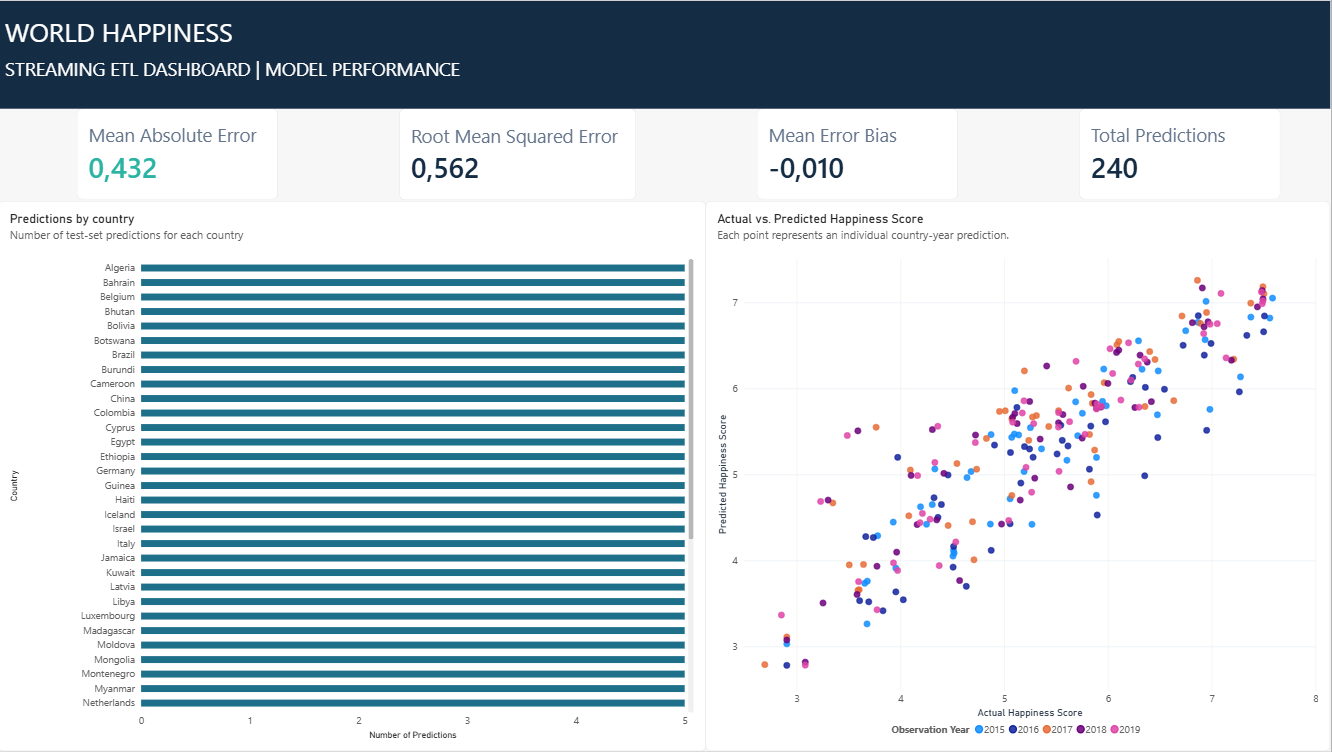

Layout of this report page (visuals, bound fields, positions):
{"tool":"powerbi","page":{"name":"Model Performance","canvas":[1920,1080],"ordinal":0},"visuals":[{"type":"cardVisual","fields":{"Data":["public vw_kpi_average_error.MAE"]},"box":[114.3,155.4,290.2,131.7],"z":0},{"type":"cardVisual","fields":{"Data":["public vw_kpi_average_error.MRMSE"]},"box":[578.3,155.4,341.1,132.1],"z":1000},{"type":"cardVisual","fields":{"Data":["public vw_kpi_average_error.mean bias"]},"box":[1093.1,155.4,290.2,131.7],"z":2000},{"type":"cardVisual","fields":{"Data":["public vw_kpi_average_error.Total predictions"]},"box":[1557.2,155.4,290.2,131.7],"z":3000},{"type":"clusteredBarChart","title":"Predictions by country","fields":{"Category":["public vw_kpi_predictions_by_country.country_name"],"Y":["Sum(public vw_kpi_predictions_by_country.predictions)"]},"box":[0,287.5,1019.6,792.9],"z":4000},{"type":"scatterChart","title":"Actual vs. Predicted Happiness Score","fields":{"Category":["public vw_kpi_predicted_vs_actual.prediction_id"],"Series":["public vw_kpi_predicted_vs_actual.observation_year"],"X":["Avg(public vw_kpi_predicted_vs_actual.actual_score)"],"Y":["Avg(public vw_kpi_predicted_vs_actual.predicted_score)"]},"box":[1019.6,287.5,900,792.9],"z":5000},{"type":"shape","box":[0,0,1919.7,155.4],"z":6000},{"type":"textbox","box":[0,0,1919.7,155.4],"z":7000}]}

Visuals, with their boxes in screenshot pixels (x1, y1, x2, y2), scaled from the page's 1920x1080 canvas onto the 1332x752 screenshot:
cardVisual - public vw_kpi_average_error.MAE: l=79, t=108, r=281, b=200
cardVisual - public vw_kpi_average_error.MRMSE: l=401, t=108, r=638, b=200
cardVisual - public vw_kpi_average_error.mean bias: l=758, t=108, r=960, b=200
cardVisual - public vw_kpi_average_error.Total predictions: l=1080, t=108, r=1282, b=200
"Predictions by country" clusteredBarChart: l=0, t=200, r=707, b=751
"Actual vs. Predicted Happiness Score" scatterChart: l=707, t=200, r=1331, b=751
shape: l=0, t=0, r=1331, b=108
textbox: l=0, t=0, r=1331, b=108
